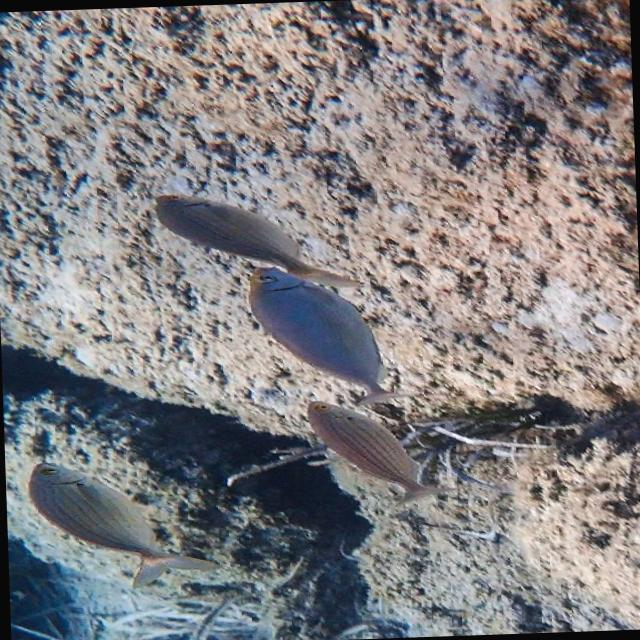Sokar Baligi: (10, 450, 234, 600), (278, 388, 464, 518)
